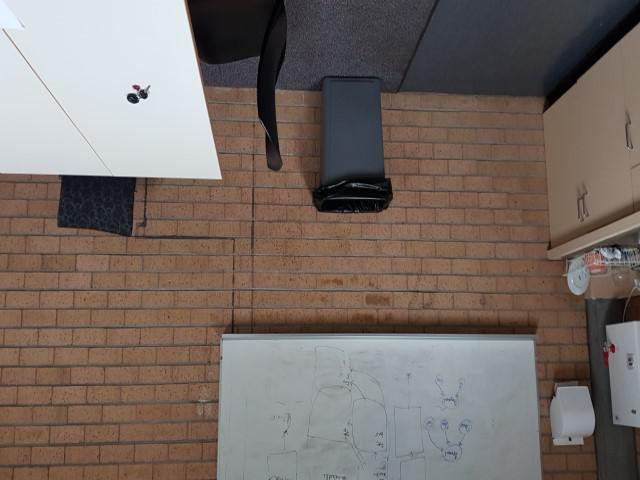key: (137, 83, 153, 101)
